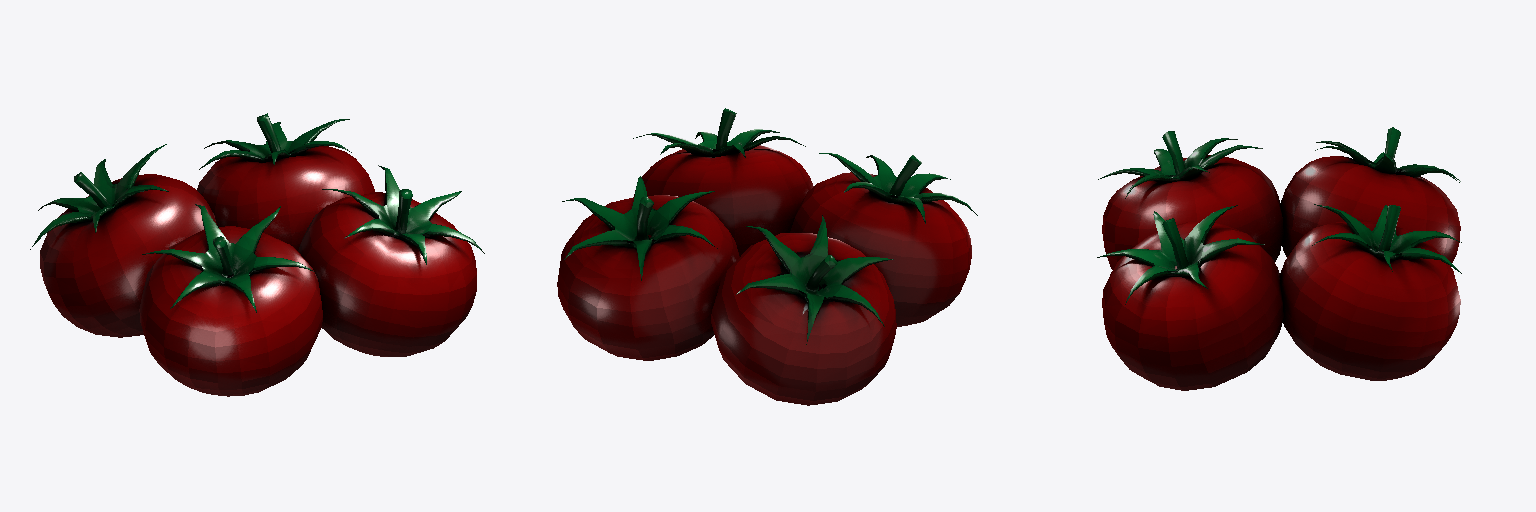
3 renders of one model, left to right at view 1: azimuth 30°, elevation 25°; view 2: azimuth 150°, elevation 25°; view 3: azimuth 270°, elevation 25°, orthographic.
Parts seen in each view (by area): view 1: polySurface1_Mesh; view 2: polySurface1_Mesh; view 3: polySurface1_Mesh.
Part boxes in pixels (left/top/right/bottom): polySurface1_Mesh: left=30, top=113, right=484, bottom=396; polySurface1_Mesh: left=557, top=108, right=977, bottom=405; polySurface1_Mesh: left=1097, top=127, right=1461, bottom=390.
Bounding box in the file's own units: 0.9259 × 0.4349 × 0.8593.
1 materials, 1 textured.